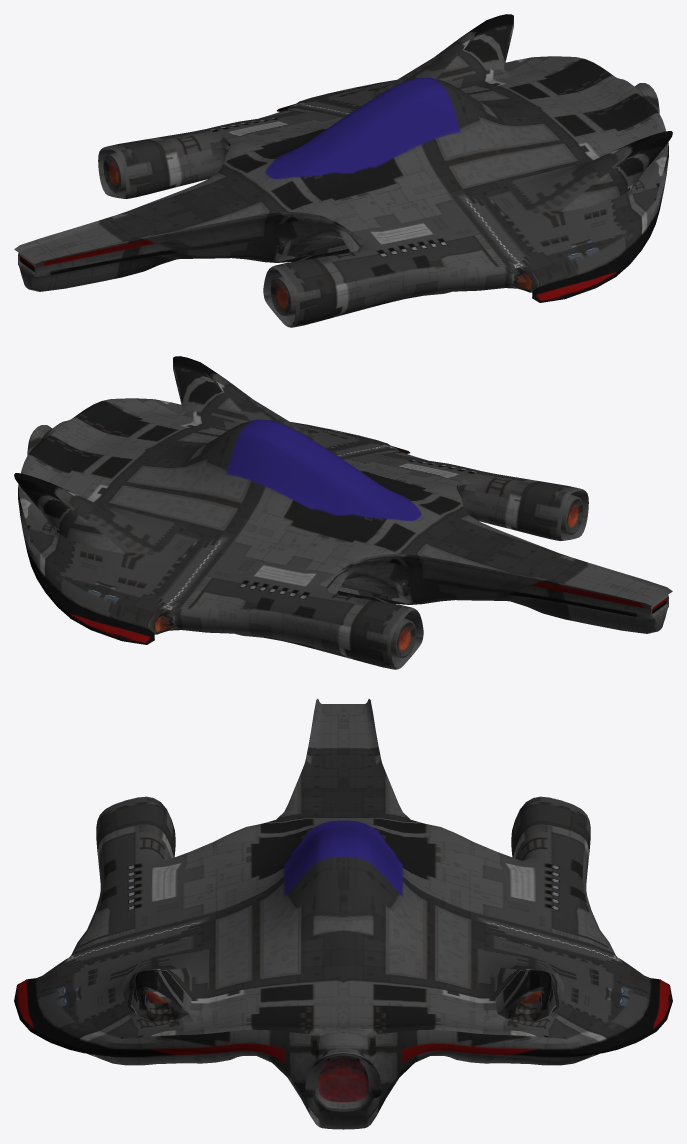
Rendered from aviao.glb.
3 renders of one model, top to bottom at view 1: azimuth 30°, elevation 25°; view 2: azimuth 150°, elevation 25°; view 3: azimuth 270°, elevation 25°, orthographic. The views are drawn at different scales.
Visible parts, largest first — view 1: Fighter232; view 2: Fighter232; view 3: Fighter232.
Part boxes in pixels (x1,y1,x2,y2): Fighter232: (14, 14, 672, 327); Fighter232: (14, 356, 672, 669); Fighter232: (14, 699, 672, 1129).
Size of the model in its own units: 40.63 by 8.72 by 29.89.
1 material, 1 textured.
